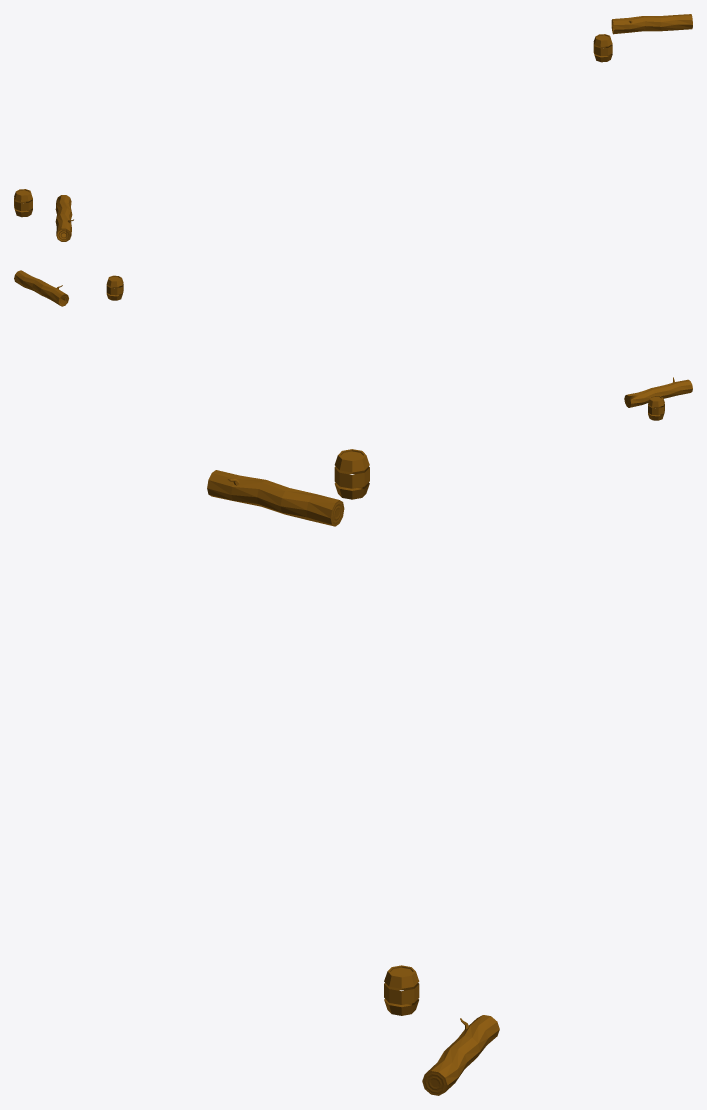
File: wood.fbx
The picture shows the model from 3 angles, top to bottom: view 1: azimuth 30°, elevation 25°; view 2: azimuth 150°, elevation 25°; view 3: azimuth 270°, elevation 25°; orthographic projection. The views are drawn at different scales.
Parts seen in each view (by area): view 1: Low_Poly_N; view 2: Low_Poly_N; view 3: Low_Poly_N.
Part boxes in pixels (x1=…): Low_Poly_N: x1=14, y1=14, x2=692, y2=241; Low_Poly_N: x1=14, y1=270, x2=692, y2=420; Low_Poly_N: x1=207, y1=449, x2=499, y2=1095.
Bounding box in the file's own units: 15607 × 470 × 3160.
